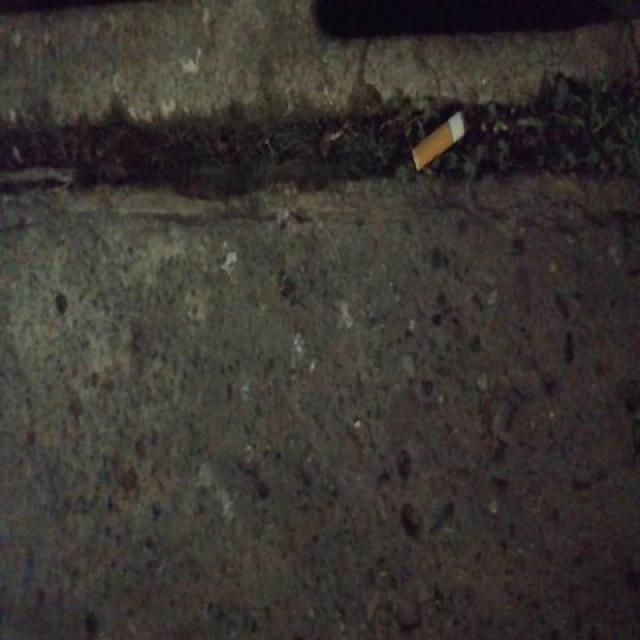non-organic waste: (408, 104, 469, 179)
